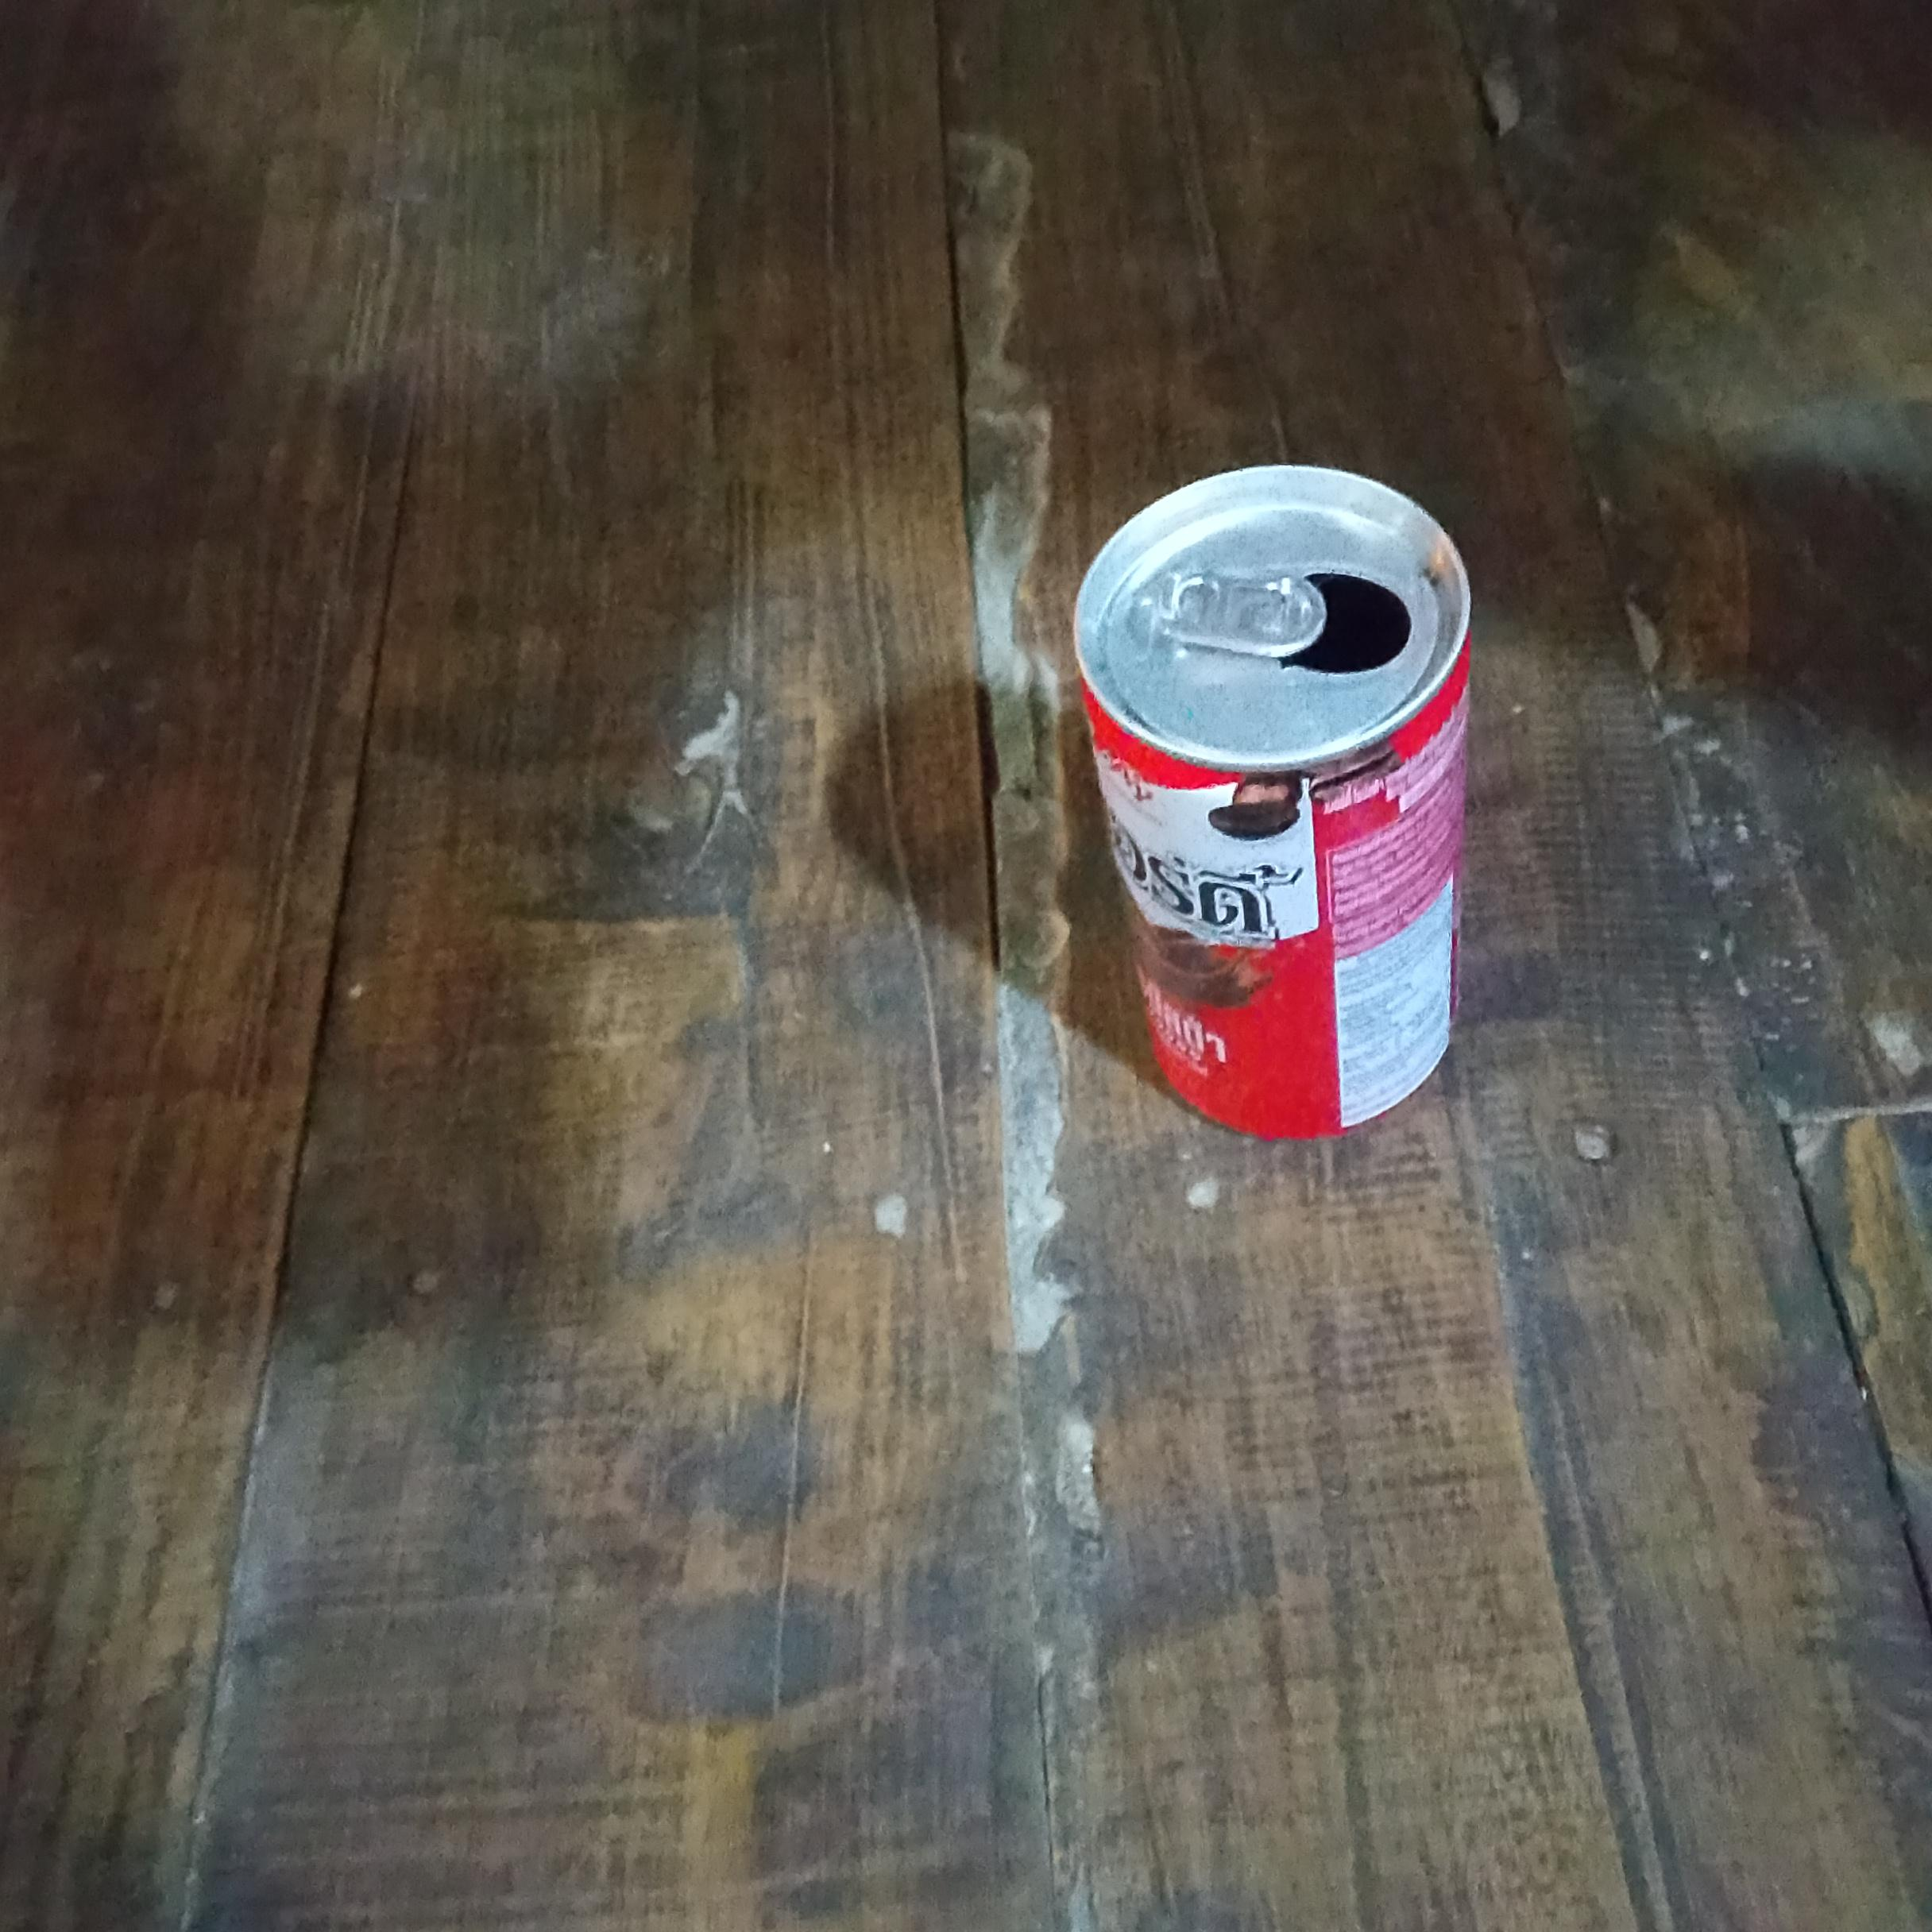can: (1077, 467, 1468, 1138)
